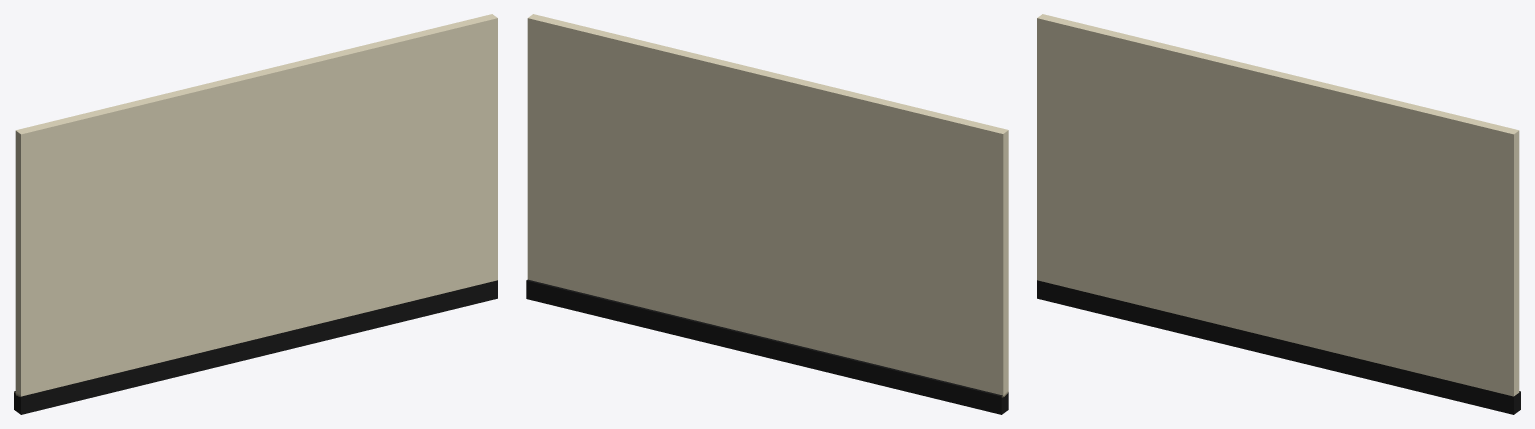
File: Wall 2.FBX
The picture shows the model from 3 angles, left to right: view 1: azimuth 30°, elevation 25°; view 2: azimuth 150°, elevation 25°; view 3: azimuth 330°, elevation 25°; orthographic projection.
Visible parts, largest first — view 1: Wall 2; view 2: Wall 2; view 3: Wall 2.
Boxes of the visible parts, bbox=[...] form: Wall 2: bbox=[14, 14, 497, 414]; Wall 2: bbox=[526, 14, 1008, 414]; Wall 2: bbox=[1037, 14, 1520, 414].
Size of the model in its own units: 434 by 244 by 11.22.
1 material, 1 textured.
